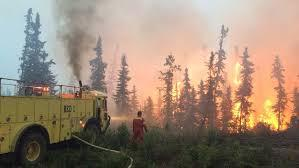fire: (229, 61, 281, 132), (170, 81, 182, 101)
yanwu: (46, 0, 297, 78)
